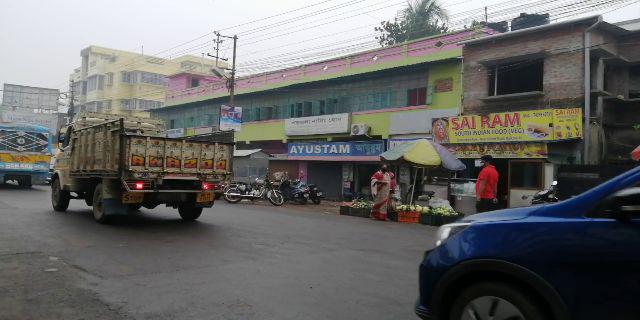Bus: (1, 122, 47, 189)
Car: (416, 147, 640, 320)
Truck: (52, 116, 239, 216)
